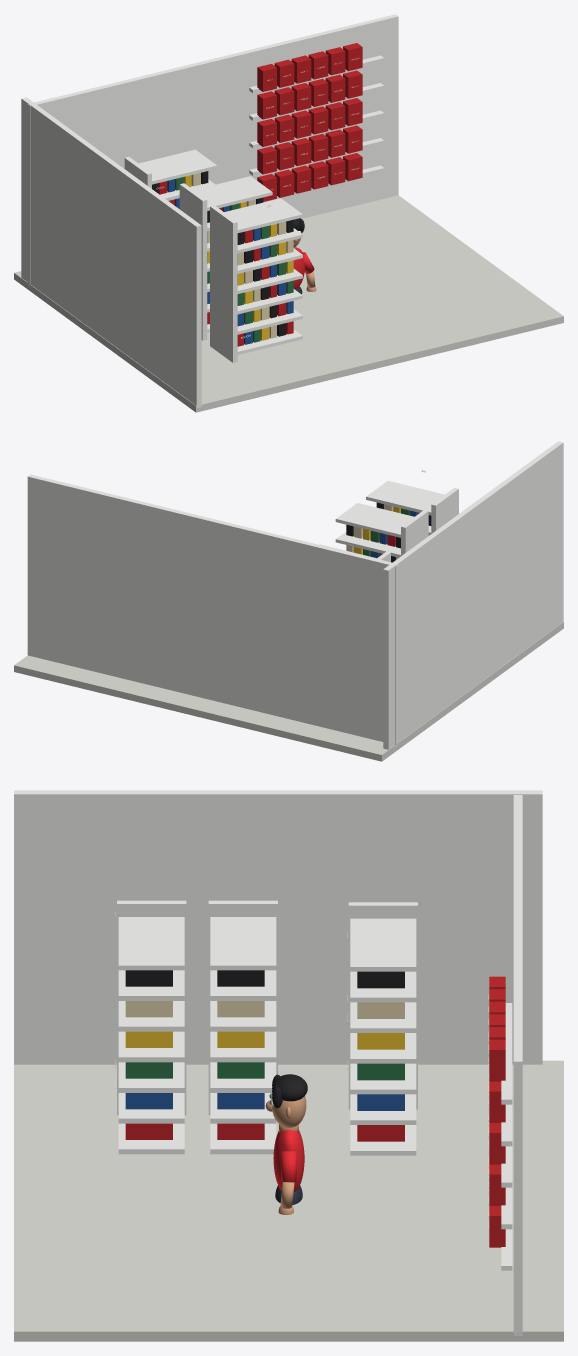
The model's file is hasil_orang_berjalan.glb.
3 views of the same model, one above another, from view 1: azimuth 30°, elevation 25°; view 2: azimuth 150°, elevation 25°; view 3: azimuth 270°, elevation 25° (orthographic). The views are drawn at different scales.
Parts seen in each view (by area): view 1: Floor, RightWall.001, BackWall, ShelfSideL, ShelfSideL.001, Shelf.006, Shelf.020, Shelf.013, Shelf, Shelf.002, Shelf.001, Shelf.003 (+6 smaller); view 2: BackWall, RightWall.001, Floor, Shelf.013, Shelf.006, ShelfSideL, ShelfSideL.001, Shelf.012; view 3: Floor, RightWall.001, BackWall, Shelf.006, Shelf.013, Shelf.020, ShelfSideL, ShelfSideL.002, ShelfSideL.001, Shelf.010, Shelf, Shelf.003 (+38 smaller).
Part boxes in pixels (x1,y1,x2,y2): Floor: [14, 195, 563, 412]; RightWall.001: [21, 97, 201, 407]; BackWall: [27, 14, 398, 287]; ShelfSideL: [210, 205, 237, 362]; ShelfSideL.001: [179, 183, 207, 340]; Shelf.006: [224, 198, 302, 232]; Shelf.020: [138, 149, 217, 184]; Shelf.013: [194, 176, 272, 210]; Shelf: [237, 329, 302, 354]; Shelf.002: [237, 289, 302, 314]; Shelf.001: [237, 309, 302, 334]; Shelf.003: [237, 269, 302, 293]; BackWall: [27, 474, 398, 747]; RightWall.001: [383, 441, 563, 749]; Floor: [14, 622, 563, 761]; Shelf.013: [335, 503, 414, 537]; Shelf.006: [366, 480, 444, 515]; ShelfSideL: [431, 488, 458, 533]; ShelfSideL.001: [401, 510, 428, 555]; Shelf.012: [335, 532, 400, 557]; Floor: [14, 1060, 563, 1341]; RightWall.001: [14, 790, 542, 1064]; BackWall: [513, 795, 522, 1335]; Shelf.006: [118, 917, 184, 970]; Shelf.013: [210, 917, 276, 970]; Shelf.020: [350, 918, 416, 971]; ShelfSideL: [117, 900, 186, 1115]; ShelfSideL.002: [348, 902, 417, 1109]; ShelfSideL.001: [208, 900, 277, 1115]; Shelf.010: [210, 1031, 276, 1062]; Shelf: [118, 1123, 184, 1154]; Shelf.003: [118, 1031, 184, 1062].
Size of the model in its own units: 14 by 8.57 by 12.
